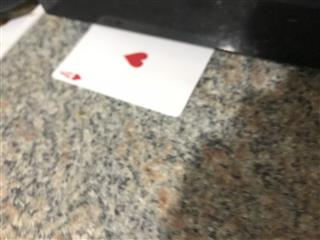AceOfHearts: (50, 23, 215, 117)
